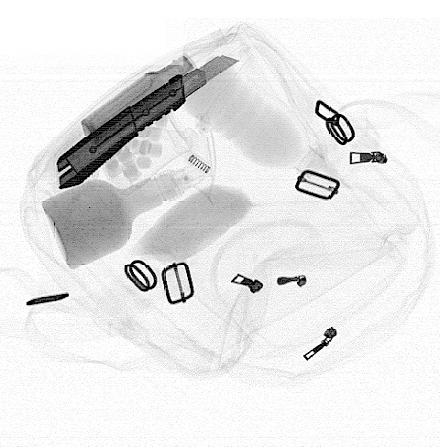Knife: (56, 54, 240, 189)
